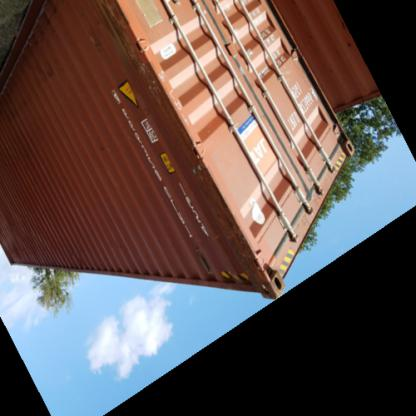Damage: (186, 152, 264, 278), (82, 2, 160, 96), (32, 58, 62, 101), (7, 228, 29, 268)
